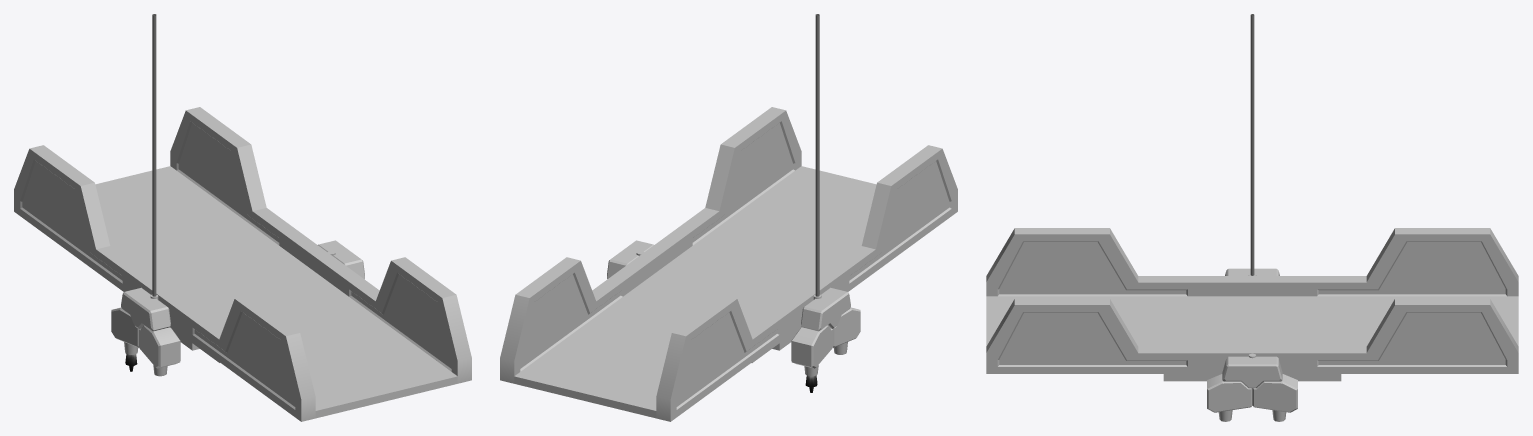
Rendered from mesh_Seesaw.fbx.
3 renders of one model, left to right at view 1: azimuth 30°, elevation 25°; view 2: azimuth 150°, elevation 25°; view 3: azimuth 270°, elevation 25°, orthographic. The views are drawn at different scales.
Parts seen in each view (by area): view 1: SeeSaw_Main, SeeSaw_Anker, Cable; view 2: SeeSaw_Main, SeeSaw_Anker, Cable; view 3: SeeSaw_Main, SeeSaw_Anker, Cable.
Part boxes in pixels (box(x1,y1,x2,y2)): SeeSaw_Main: box(14, 107, 471, 421); SeeSaw_Anker: box(111, 240, 364, 376); Cable: box(152, 14, 156, 296); SeeSaw_Main: box(500, 107, 957, 421); SeeSaw_Anker: box(607, 240, 860, 376); Cable: box(815, 14, 819, 296); SeeSaw_Main: box(986, 228, 1518, 381); SeeSaw_Anker: box(1207, 268, 1297, 421); Cable: box(1250, 14, 1254, 275).
Bounding box in the file's own units: 120 × 193 × 276.
